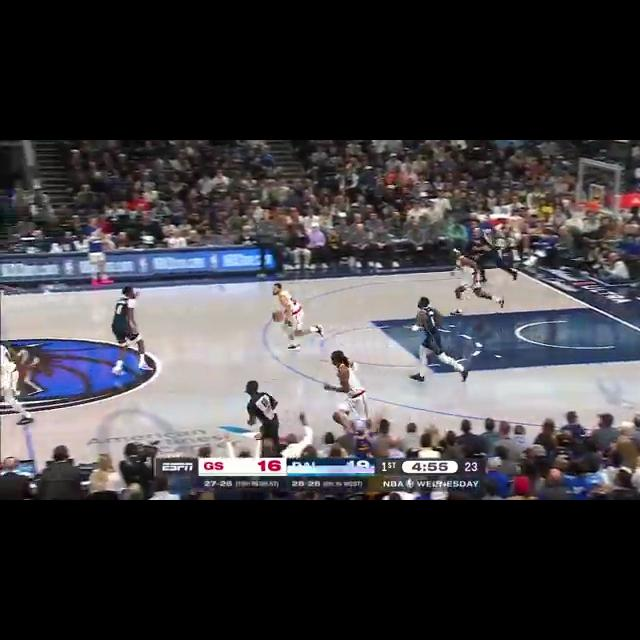Ball: (268, 306, 288, 330)
Team-1-Player: (392, 292, 472, 388), (103, 279, 159, 379)
Team-2-Player: (442, 246, 508, 316), (268, 278, 328, 352), (323, 352, 379, 416)
